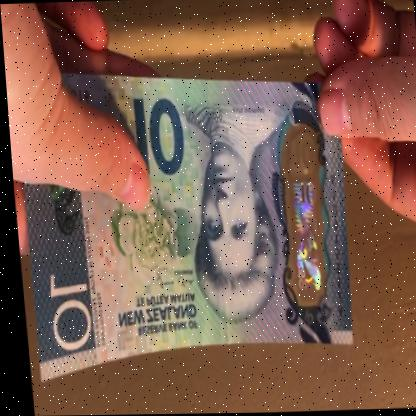10B: (276, 136, 327, 303)
